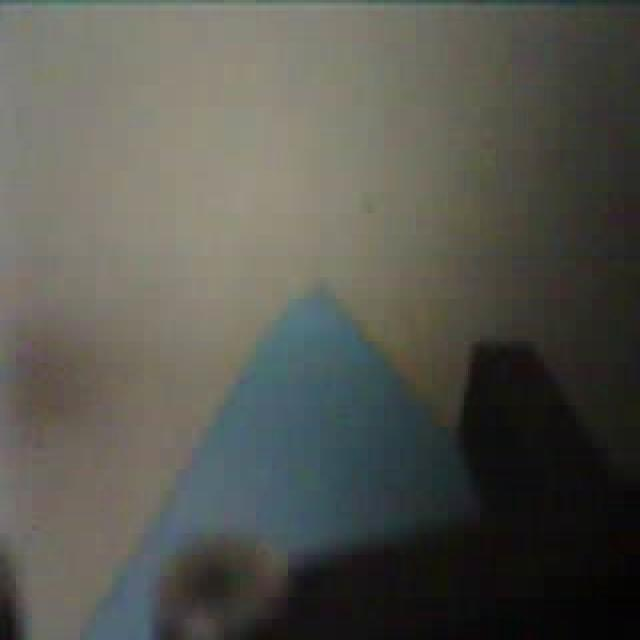blue_box: (67, 282, 490, 640)
